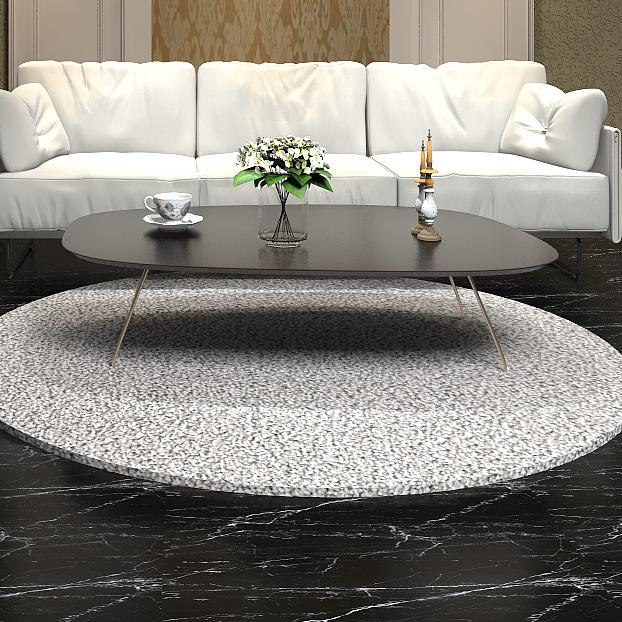table: (61, 197, 559, 371)
